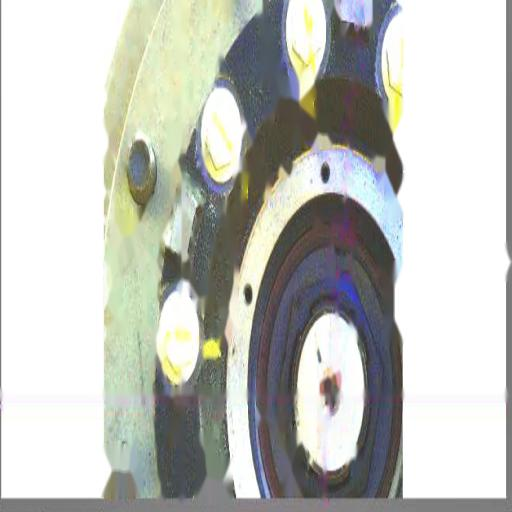center: (318, 377, 335, 401)
notch: (333, 241, 348, 267)
